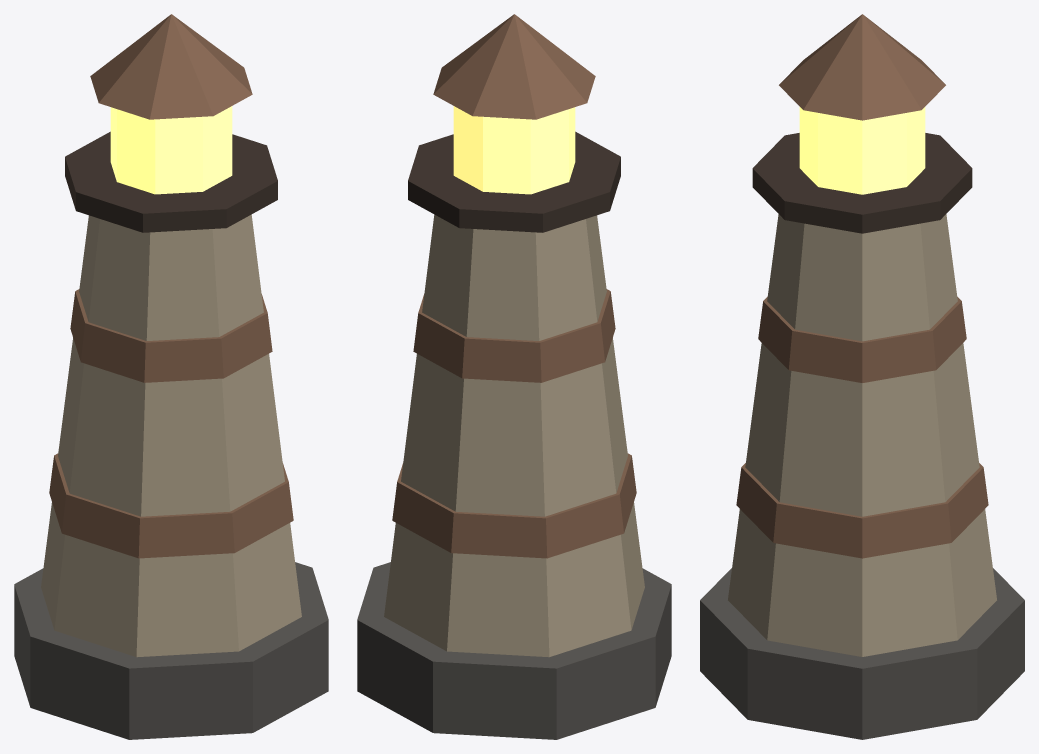
File: lighthouse.glb
3 renders of one model, left to right at view 1: azimuth 30°, elevation 25°; view 2: azimuth 150°, elevation 25°; view 3: azimuth 270°, elevation 25°, orthographic.
Parts seen in each view (by area): view 1: lighthouse tower, lighthouse base, lamp gallery, lantern roof, red band, lantern room, red band.001; view 2: lighthouse tower, lighthouse base, lamp gallery, lantern roof, red band, lantern room, red band.001; view 3: lighthouse tower, lighthouse base, lamp gallery, red band, lantern roof, lantern room, red band.001.
Boxes of the visible parts, bbox=[...] form: lighthouse tower: bbox=[41, 214, 301, 657]; lighthouse base: bbox=[14, 562, 328, 739]; lamp gallery: bbox=[65, 131, 277, 232]; lantern roof: bbox=[90, 14, 252, 119]; red band: bbox=[49, 453, 293, 558]; lantern room: bbox=[110, 106, 232, 194]; red band.001: bbox=[70, 289, 272, 382]; lighthouse tower: bbox=[384, 214, 644, 657]; lighthouse base: bbox=[357, 562, 671, 739]; lamp gallery: bbox=[408, 131, 620, 232]; lantern roof: bbox=[433, 14, 595, 119]; red band: bbox=[392, 453, 636, 558]; lantern room: bbox=[453, 106, 575, 194]; red band.001: bbox=[413, 289, 615, 382]; lighthouse tower: bbox=[728, 214, 996, 656]; lighthouse base: bbox=[700, 568, 1024, 739]; lamp gallery: bbox=[752, 133, 972, 233]; red band: bbox=[736, 463, 988, 558]; lantern roof: bbox=[779, 14, 945, 120]; lantern room: bbox=[799, 107, 925, 194]; red band.001: bbox=[758, 297, 966, 382].
Size of the model in its own units: 1.24 by 2.77 by 1.24.
